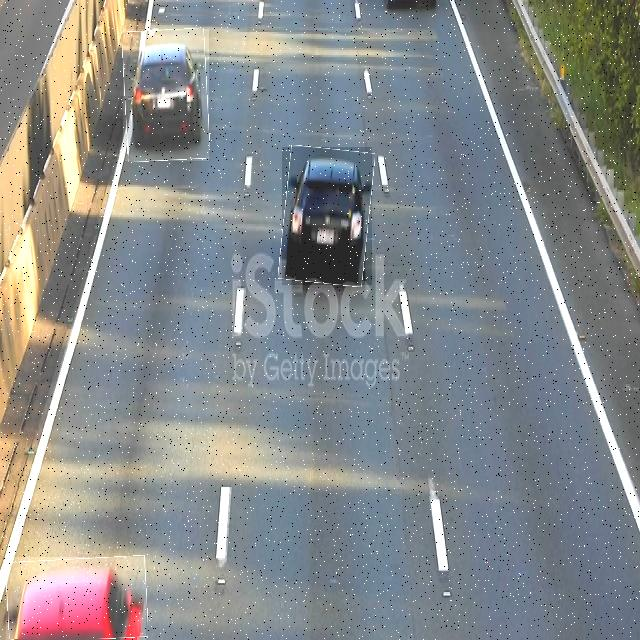Car: (282, 147, 372, 285), (6, 557, 146, 640), (123, 29, 209, 161)
